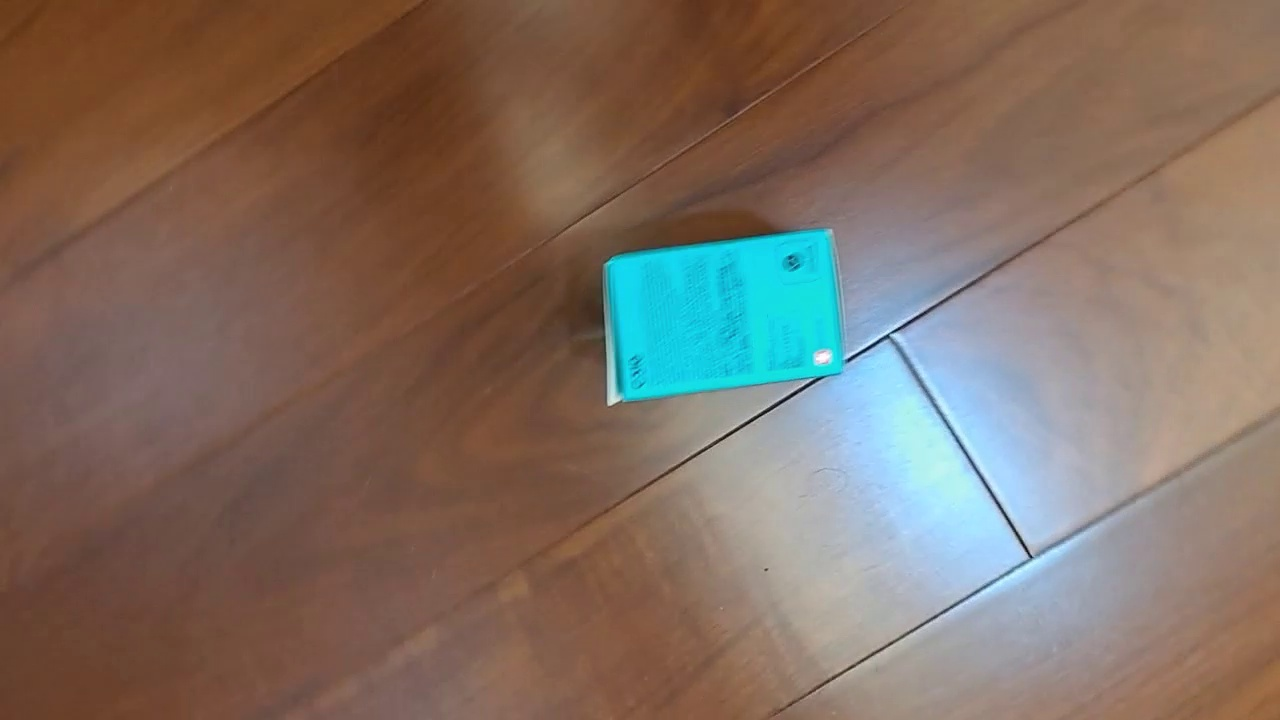webcam: (601, 226, 849, 408)
